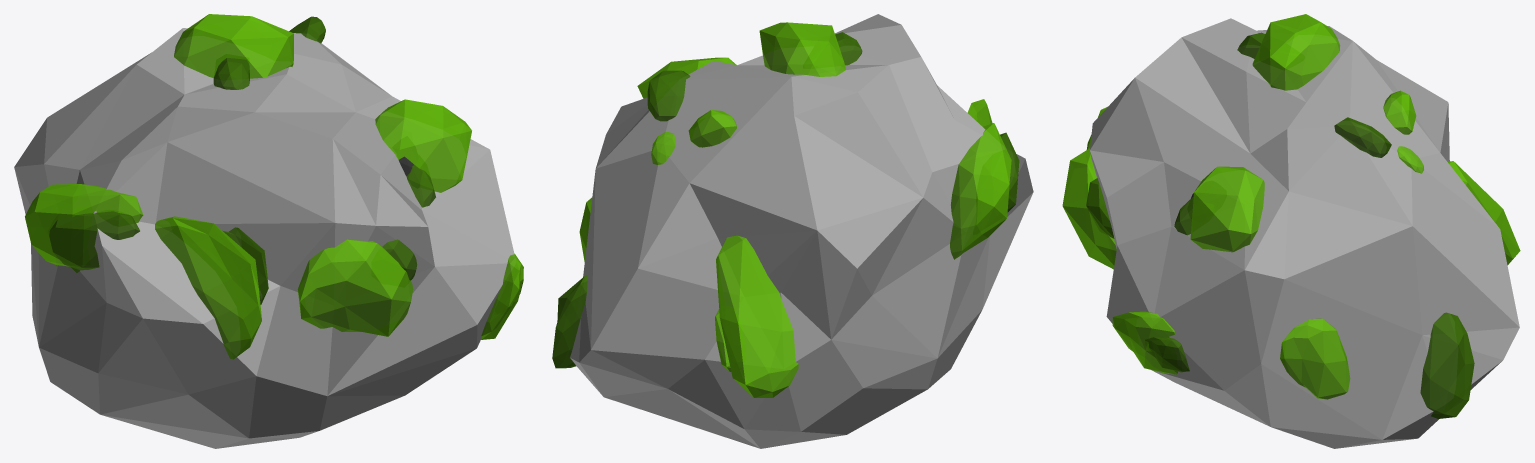
Rendered from EarthstoneOre.fbx.
The picture shows the model from 3 angles, left to right: view 1: azimuth 30°, elevation 25°; view 2: azimuth 150°, elevation 25°; view 3: azimuth 270°, elevation 25°; orthographic projection. The views are drawn at different scales.
Parts seen in each view (by area): view 1: EarthstoneParticle.021; view 2: EarthstoneParticle.021; view 3: EarthstoneParticle.021.
Boxes of the visible parts, bbox=[...] form: EarthstoneParticle.021: bbox=[14, 14, 523, 448]; EarthstoneParticle.021: bbox=[552, 14, 1033, 448]; EarthstoneParticle.021: bbox=[1062, 14, 1520, 448].
Size of the model in its own units: 376 by 347 by 380.
